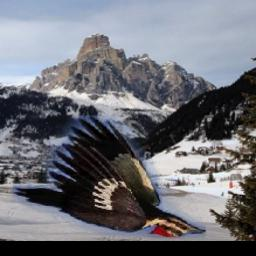Woodpecker: (14, 115, 207, 238)
